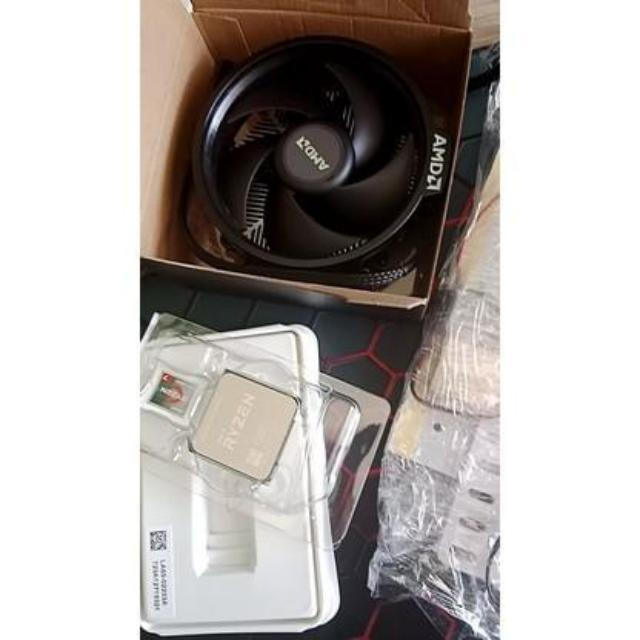CPU: (187, 366, 305, 478)
CPU_Fan: (180, 28, 452, 264)
